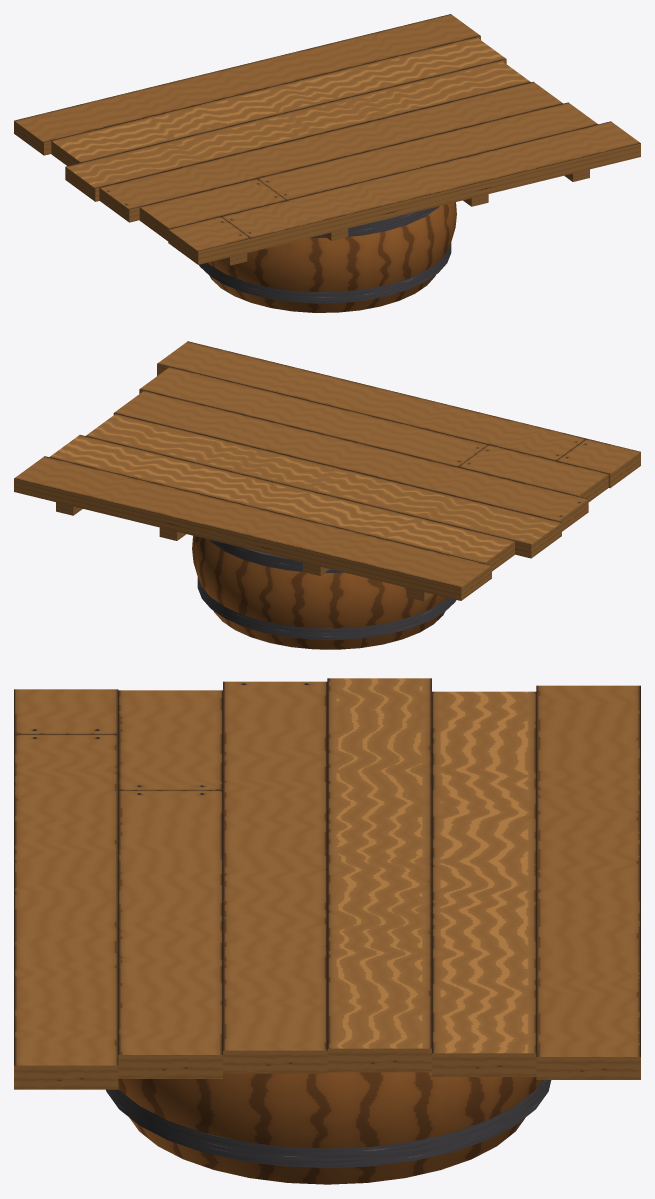
Rendered from Table_Barrel.fbx.
3 views of the same model, one above another, from view 1: azimuth 30°, elevation 25°; view 2: azimuth 150°, elevation 25°; view 3: azimuth 270°, elevation 25° (orthographic). The views are drawn at different scales.
Parts seen in each view (by area): view 1: Table_Barrel; view 2: Table_Barrel; view 3: Table_Barrel.
Part boxes in pixels (x1,y1,x2,y2): Table_Barrel: (14,14,640,312); Table_Barrel: (14,341,640,649); Table_Barrel: (14,678,640,1184).
Bounding box in the file's own units: 5.85 × 1.6 × 4.
1 material, 1 textured.
